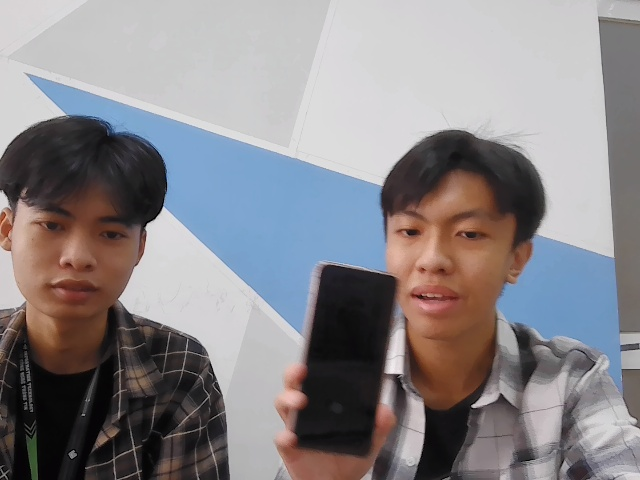human: (375, 120, 544, 331), (4, 114, 167, 331)
phone: (296, 260, 395, 457)
